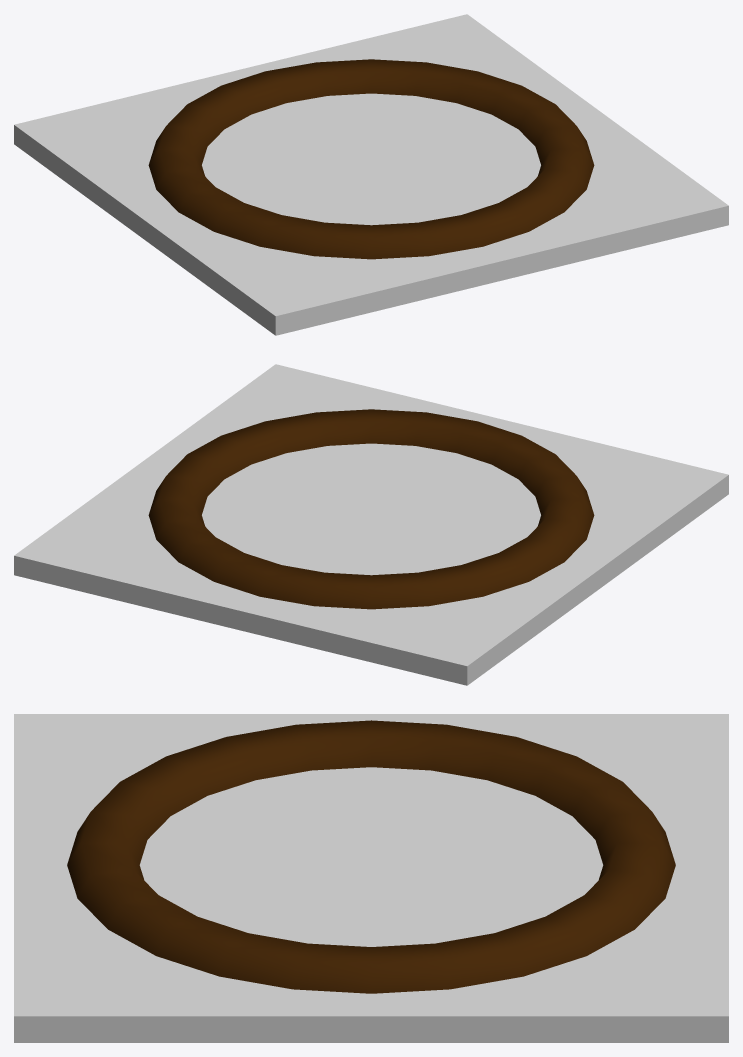
Rendered from CellingRing.fbx.
The picture shows the model from 3 angles, top to bottom: view 1: azimuth 30°, elevation 25°; view 2: azimuth 150°, elevation 25°; view 3: azimuth 270°, elevation 25°; orthographic projection. The views are drawn at different scales.
Visible parts, largest first — view 1: Torus; view 2: Torus; view 3: Torus.
Part boxes in pixels (x1,y1,x2,y2): Torus: (14,14,728,335); Torus: (14,364,728,685); Torus: (14,714,728,1042).
Bounding box in the file's own units: 400 × 43.3 × 400.
